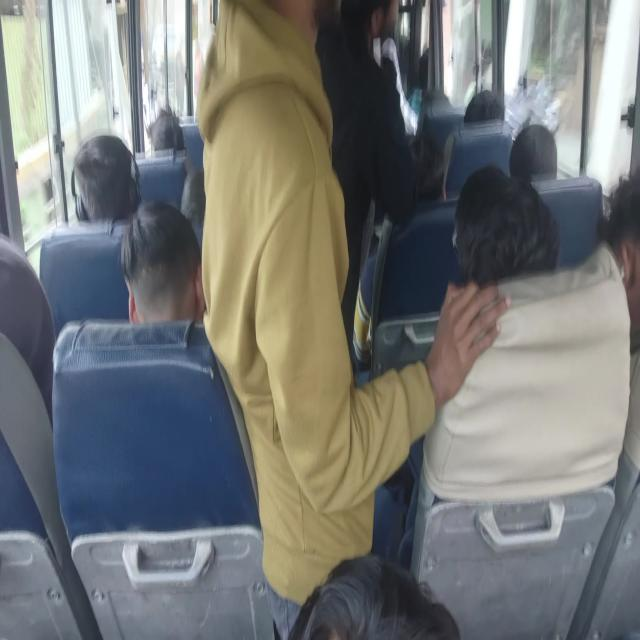person: (211, 0, 365, 449), (316, 538, 546, 640), (462, 178, 547, 340), (122, 218, 220, 344), (0, 265, 69, 431), (591, 182, 640, 334), (388, 124, 446, 234), (137, 103, 197, 183), (354, 0, 398, 103), (84, 151, 136, 235), (469, 78, 511, 156), (517, 120, 560, 186), (184, 166, 214, 226)
